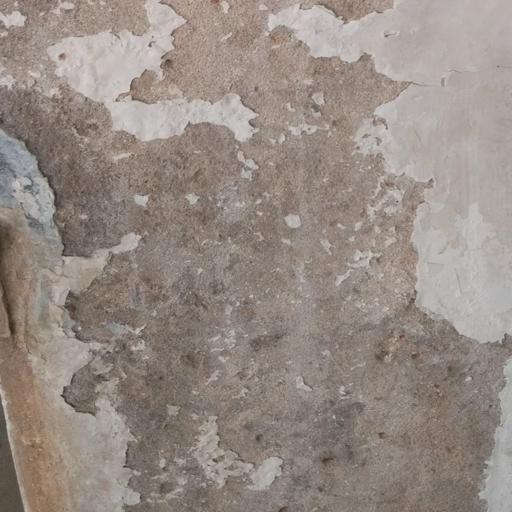peeling: (0, 0, 511, 511)
